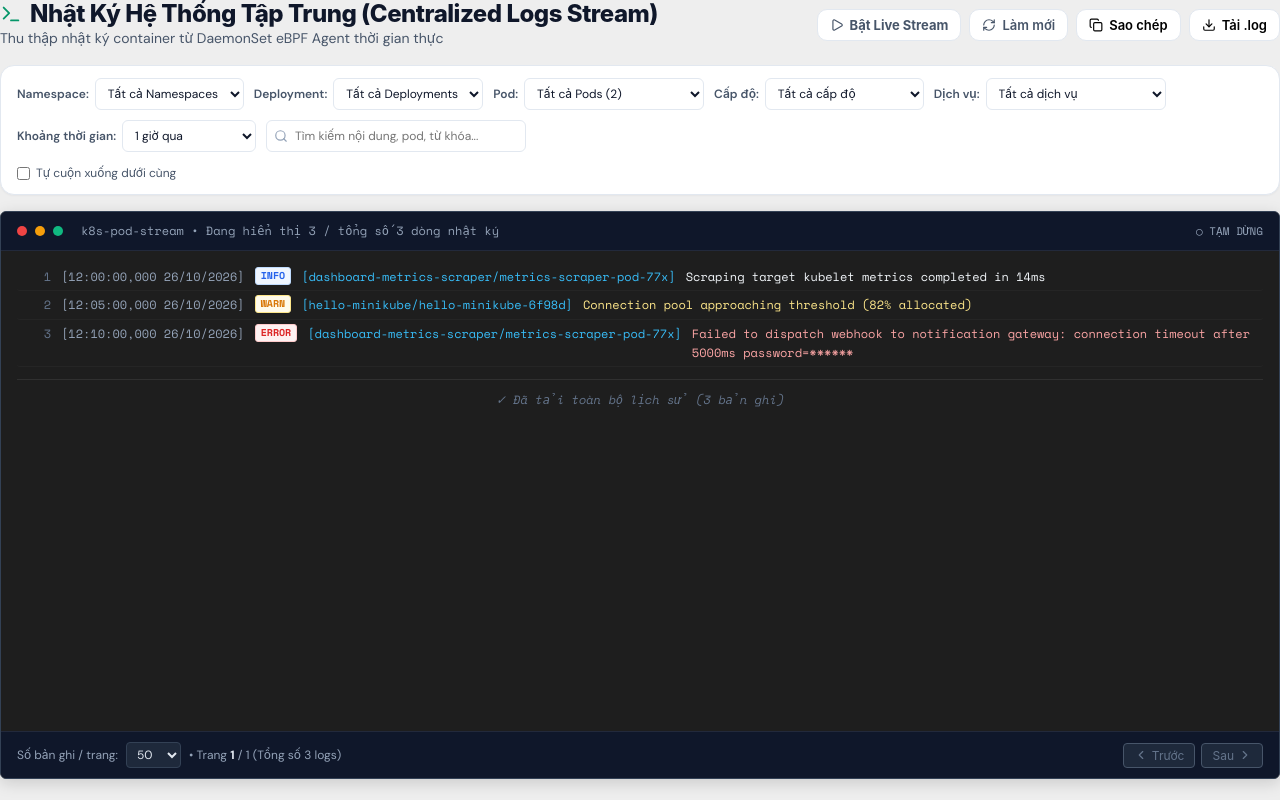
Test case: Task [S4][PB17] 3.1 – Centralized Logs Viewer, Filters & Details Suite › 5. Log Detail Modal & Masking › 5.3. Closes modal when clicking close (X) or footer close button
This screenshot has width=1280, height=800.
Check: the text "Scraping target kubelet metrics completed in 14ms" is shown, box 686,268 -> 1046,285
Click the element with test id "log-row-1001" at (640, 277), box 17,263 -> 1263,292
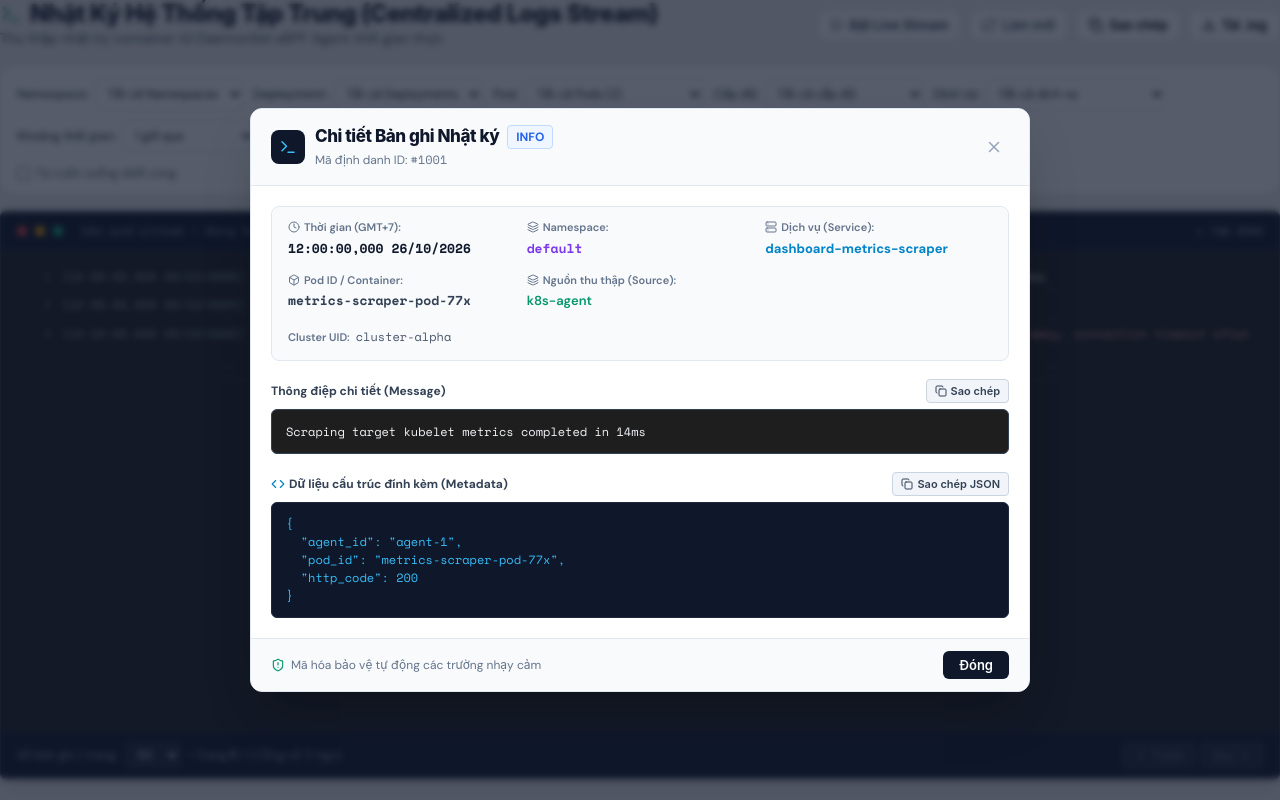
Check: the element with test id "log-detail-modal" is shown, box 250,108 -> 1030,692
Click the button with test id "log-detail-close-btn" at (994, 147), box 979,132 -> 1009,162
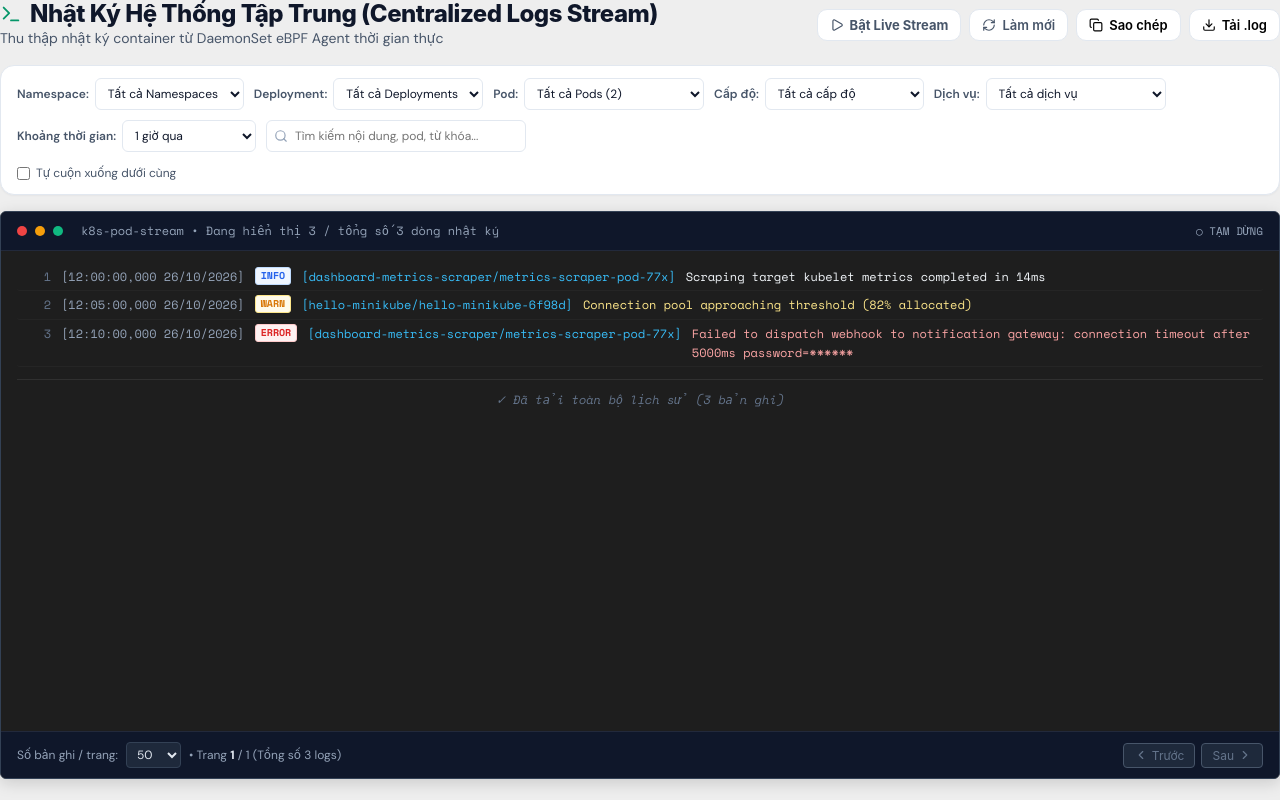
Check: the element with test id "log-detail-modal" is gone
